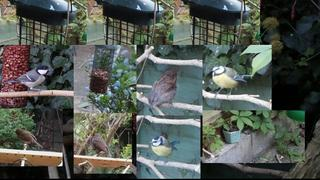blue tit: (210, 65, 252, 99), (149, 136, 180, 166)
dunnock: (147, 65, 182, 110)
great tit: (3, 65, 54, 96)
robin: (14, 128, 43, 148)
starling: (92, 133, 112, 158)
